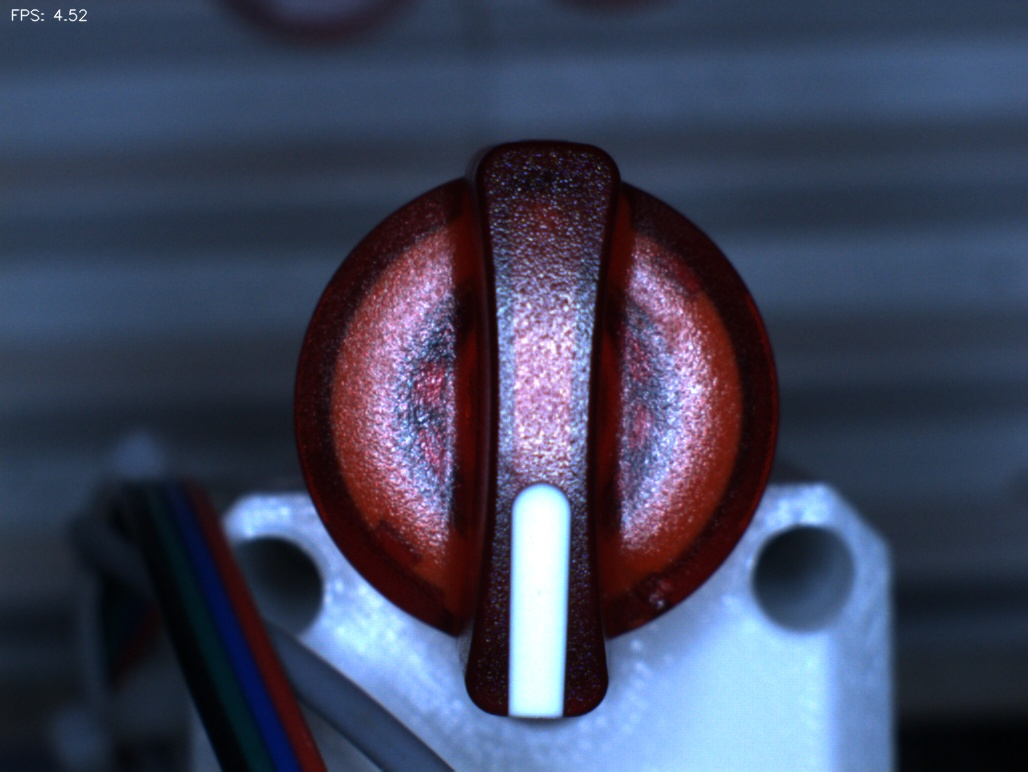Choc: (620, 561, 688, 629)
